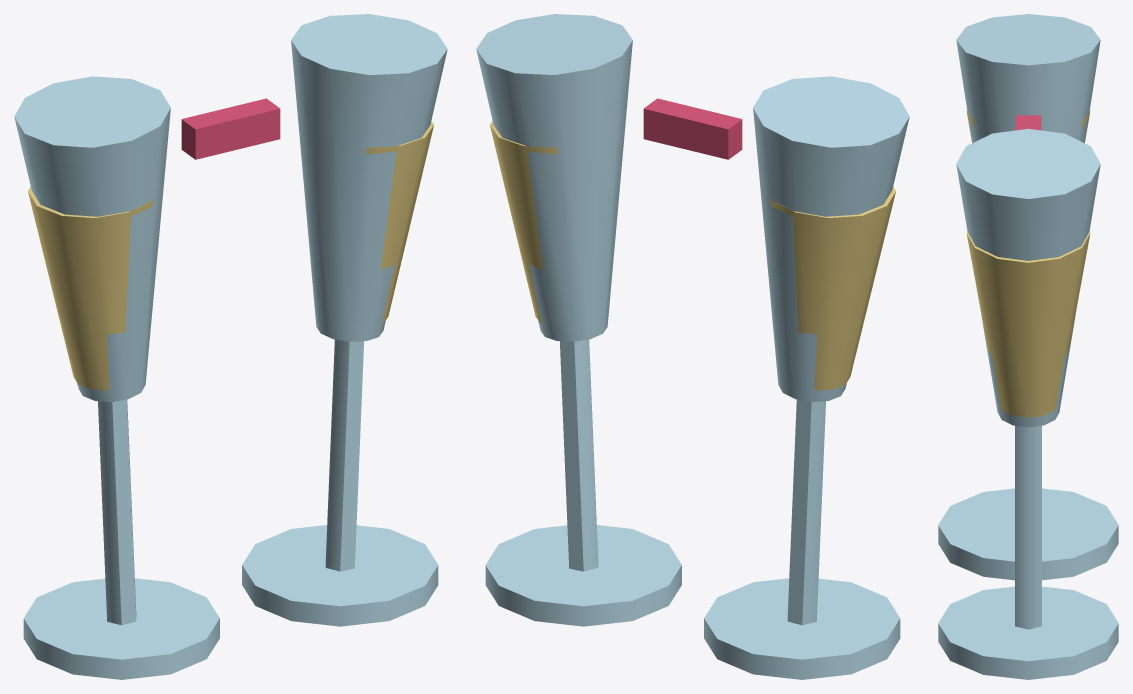
Rendered from tacas_champanhe.glb.
3 views of the same model, side by side, from view 1: azimuth 30°, elevation 25°; view 2: azimuth 150°, elevation 25°; view 3: azimuth 270°, elevation 25° (orthographic). The views are drawn at different scales.
Parts seen in each view (by area): view 1: Tacas_Champanhe; view 2: Tacas_Champanhe; view 3: Tacas_Champanhe.
Part boxes in pixels (x1,y1,x2,y2): Tacas_Champanhe: [14, 14, 447, 679]; Tacas_Champanhe: [476, 14, 909, 679]; Tacas_Champanhe: [938, 14, 1118, 679].
Size of the model in its own units: 0.1699 by 0.212 by 0.07.
